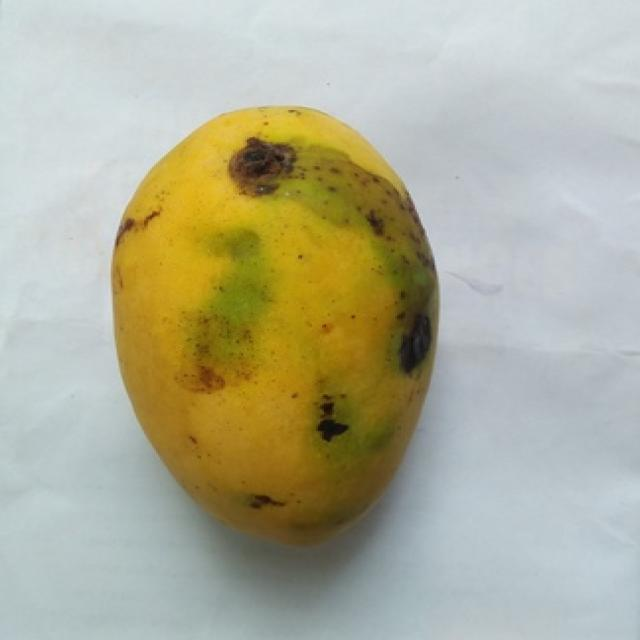Mango: (113, 109, 435, 539)
